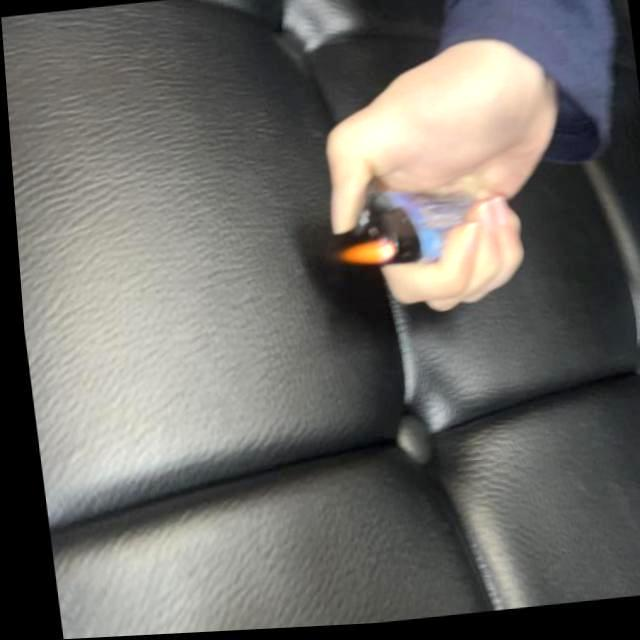fire: (328, 238, 396, 274)
